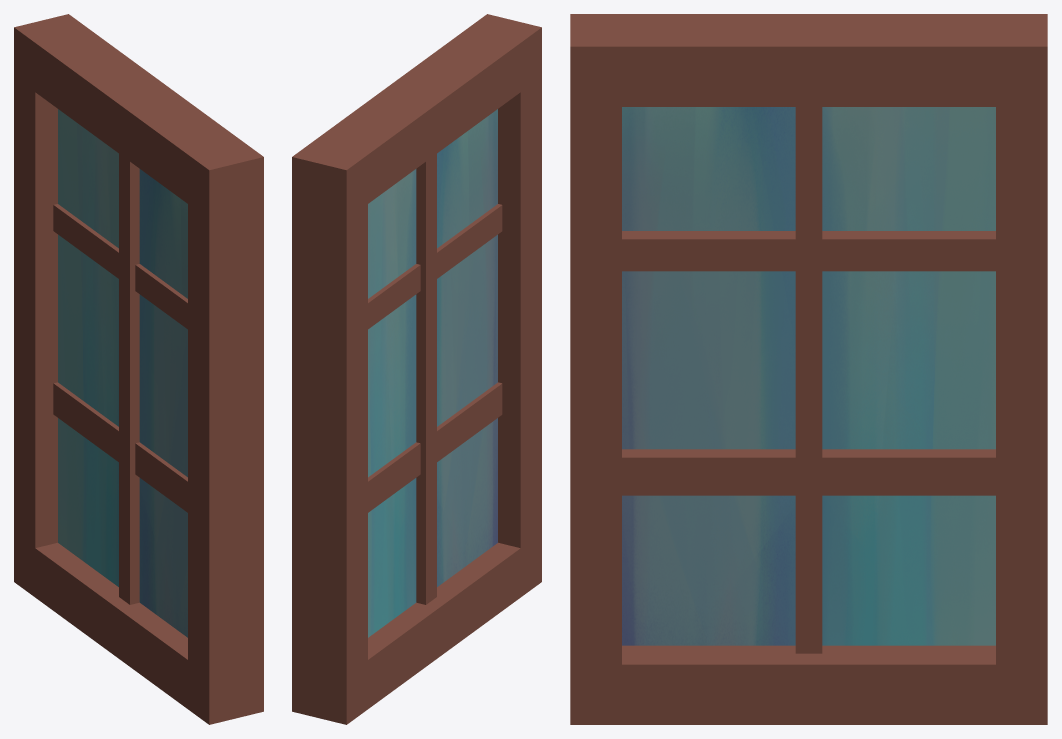
File: Window.fbx
3 views of the same model, side by side, from view 1: azimuth 30°, elevation 25°; view 2: azimuth 150°, elevation 25°; view 3: azimuth 270°, elevation 25° (orthographic). The views are drawn at different scales.
Visible parts, largest first — view 1: Cube.011, window_.004; view 2: Cube.011, window_.004; view 3: Cube.011, window_.004.
Part boxes in pixels (x1,y1,x2,y2): Cube.011: [14, 14, 263, 724]; window_.004: [58, 109, 187, 637]; Cube.011: [292, 14, 541, 724]; window_.004: [368, 109, 497, 637]; Cube.011: [570, 14, 1047, 724]; window_.004: [622, 107, 995, 645].
Bounding box in the file's own units: 36.76 × 357 × 227.
